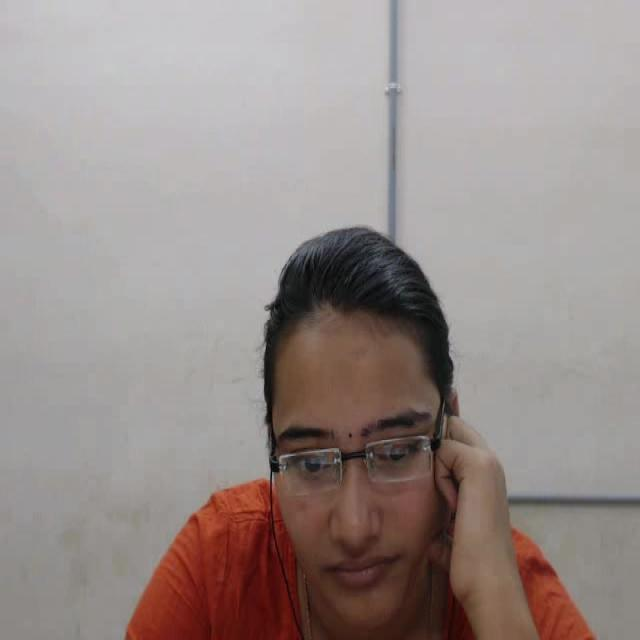Bored: (211, 185, 517, 640)
